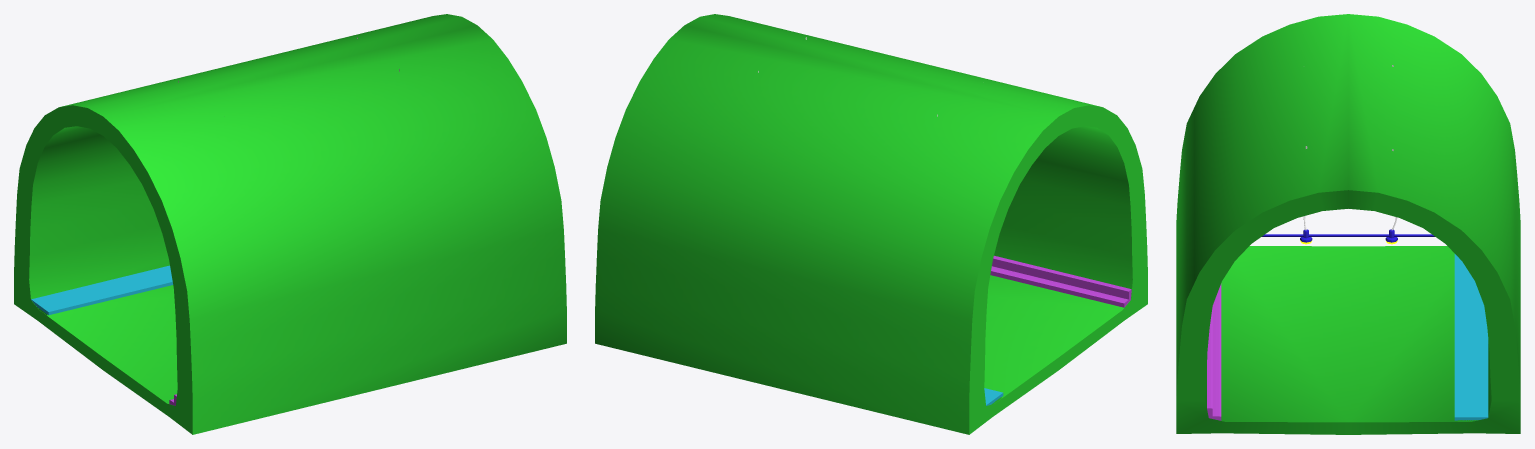
File: tunnel8.fbx
3 renders of one model, left to right at view 1: azimuth 30°, elevation 25°; view 2: azimuth 150°, elevation 25°; view 3: azimuth 270°, elevation 25°, orthographic. The views are drawn at different scales.
Parts seen in each view (by area): view 1: Conc.001; view 2: Conc.001; view 3: Conc.001.
Part boxes in pixels (x1,y1,x2,y2): Conc.001: [14, 14, 566, 434]; Conc.001: [595, 14, 1147, 434]; Conc.001: [1176, 14, 1520, 434].
Size of the model in its own units: 1250 by 811 by 1033.
